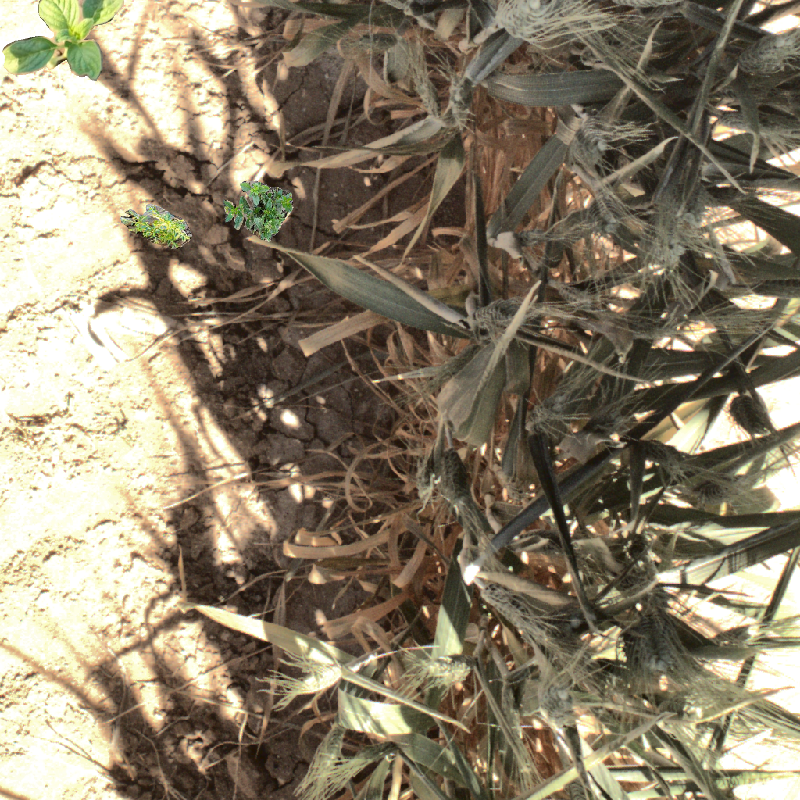spikelet: (467, 580, 550, 649), (734, 26, 799, 78), (520, 379, 583, 431), (729, 700, 800, 746), (402, 43, 438, 131), (429, 449, 472, 512), (632, 617, 677, 674), (494, 1, 555, 42), (310, 717, 346, 783), (418, 651, 472, 689), (293, 656, 345, 695), (444, 74, 475, 135), (470, 298, 519, 332), (328, 755, 384, 783), (572, 122, 611, 162)
weed: (2, 1, 125, 81), (217, 175, 298, 245), (120, 203, 193, 249)
